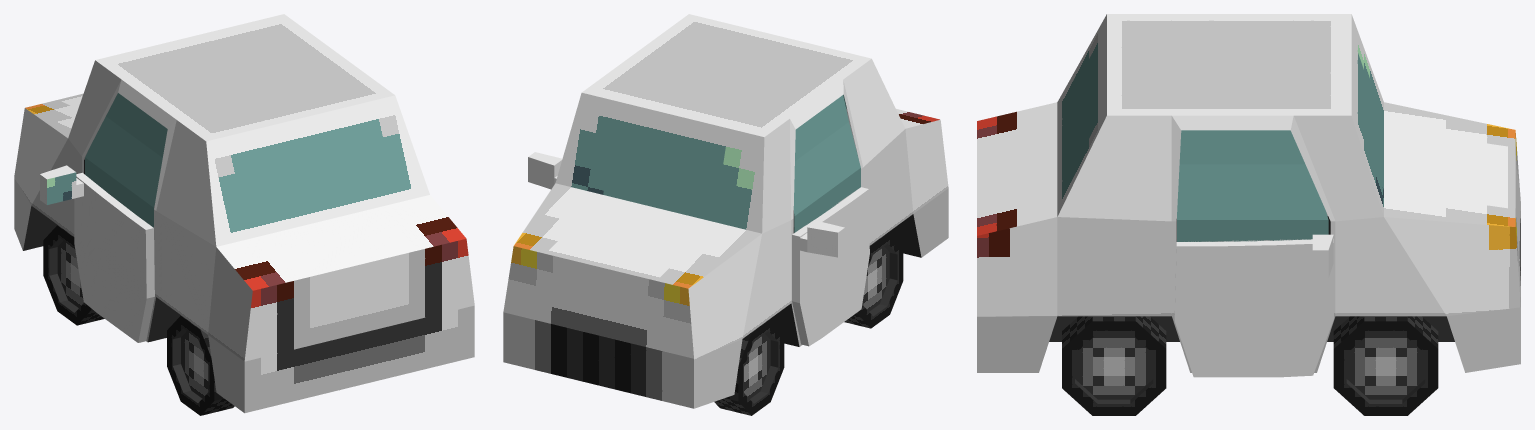
File: Car.fbx
3 views of the same model, side by side, from view 1: azimuth 30°, elevation 25°; view 2: azimuth 150°, elevation 25°; view 3: azimuth 270°, elevation 25° (orthographic). The views are drawn at different scales.
Parts seen in each view (by area): view 1: body, mirror_left, window_left, cylinder_2, cylinder; view 2: body, mirror_left, window_left, cylinder, cylinder_2, mirror_right; view 3: body, mirror_right, window_right, cylinder_1, cylinder_3.
Part boxes in pixels (x1,y1,x2,y2): body: (14, 14, 474, 413); mirror_left: (40, 165, 154, 342); window_left: (85, 93, 167, 227); cylinder_2: (167, 315, 234, 415); cylinder: (43, 225, 104, 325); body: (503, 14, 948, 408); mirror_left: (792, 187, 869, 346); window_left: (793, 95, 860, 232); cylinder: (714, 319, 784, 415); cylinder_2: (844, 231, 903, 328); mirror_right: (528, 152, 562, 189); body: (977, 14, 1520, 372); mirror_right: (1174, 234, 1333, 377); window_right: (1177, 130, 1328, 241); cylinder_1: (1333, 316, 1438, 415); cylinder_3: (1062, 316, 1166, 415).
Size of the model in its own units: 122 by 96.88 by 162.
Materials: 4 (4 with a texture image).
